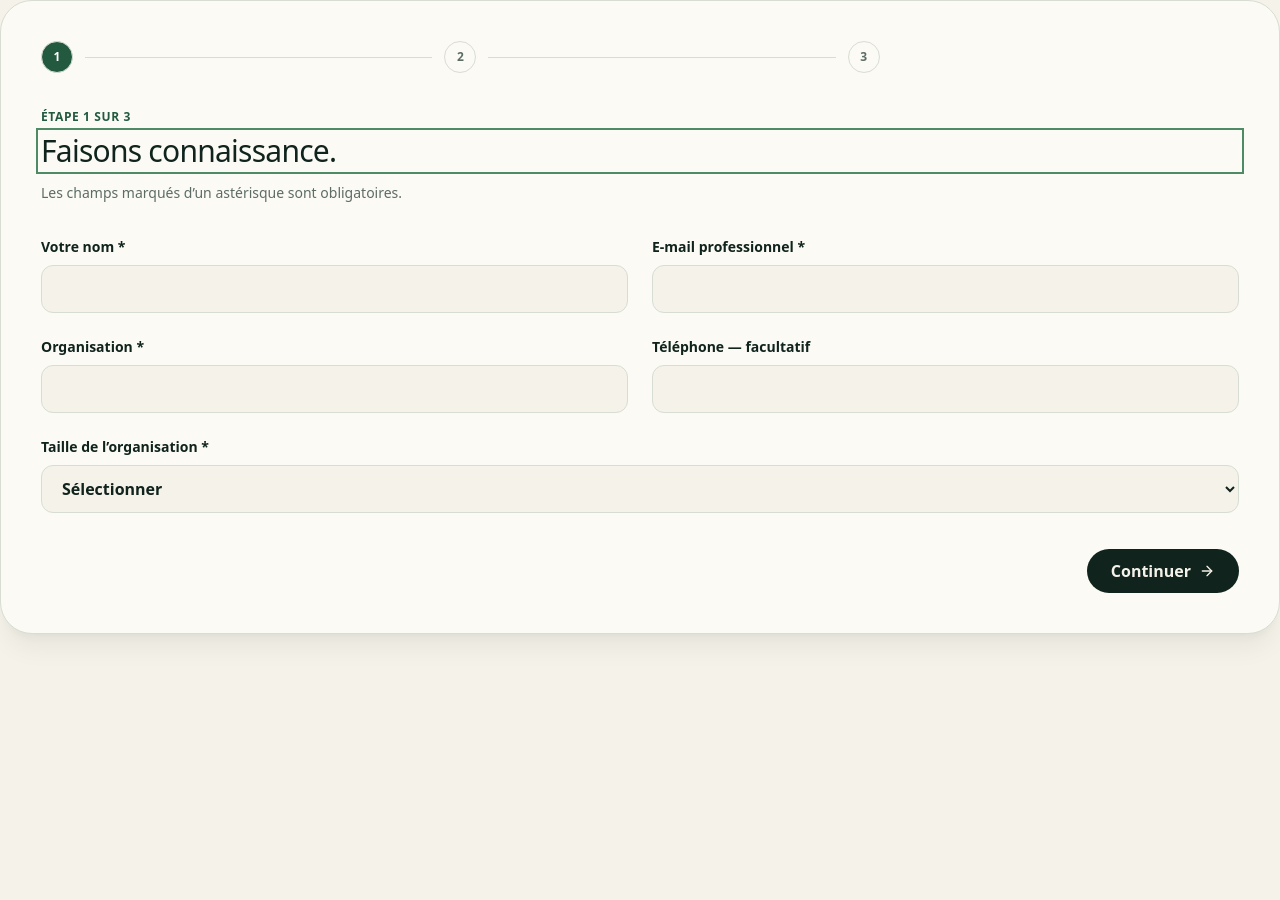
BookingForm › bloque le passage à l’étape suivante tant que les champs requis sont vides
Click the button "Continuer".
click(1163, 571)  # box [1087, 549, 1239, 593]
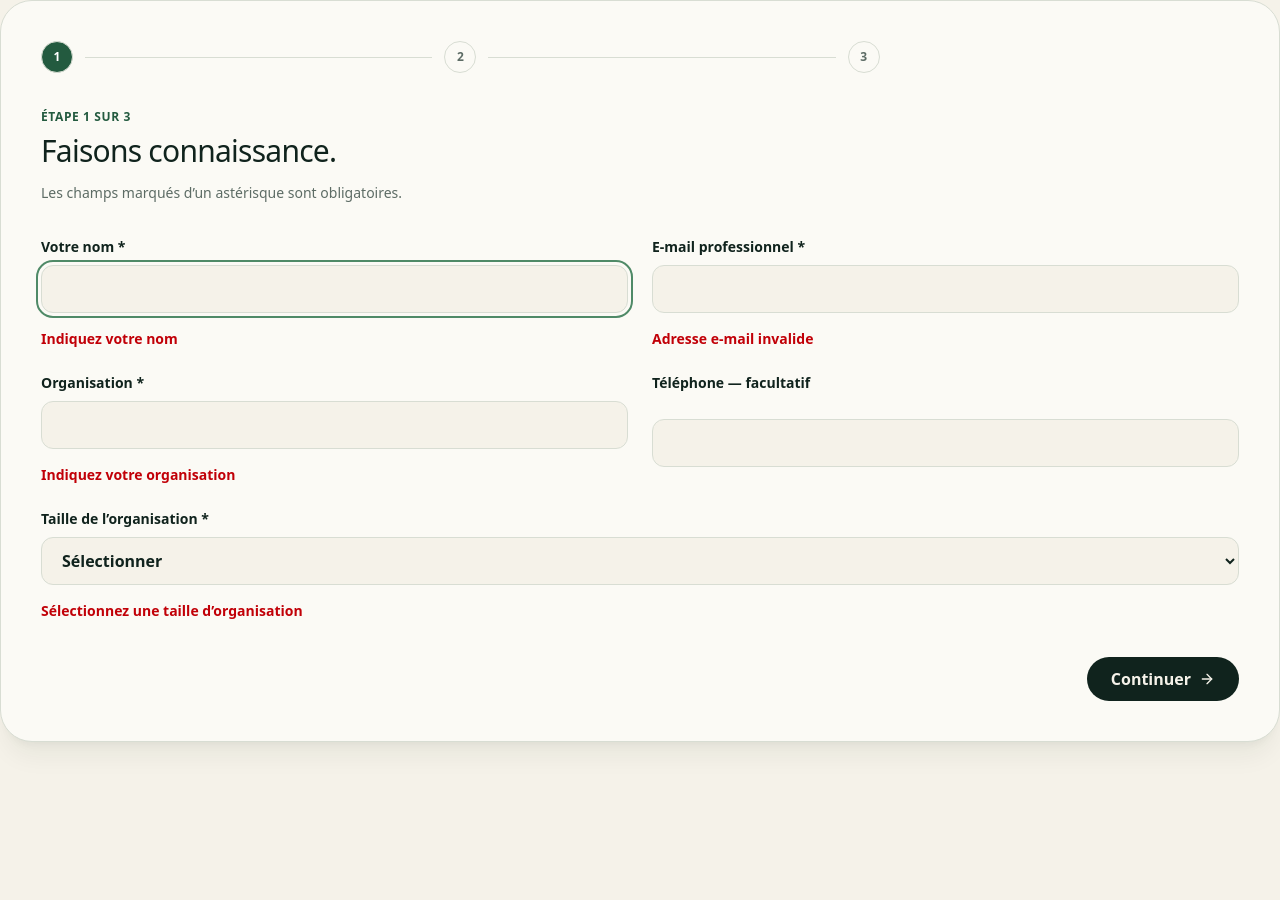
Check: the heading "Faisons connaissance." is shown, box [41, 130, 336, 171]
Check: the text "Indiquez votre nom" is shown, box [41, 329, 178, 348]
